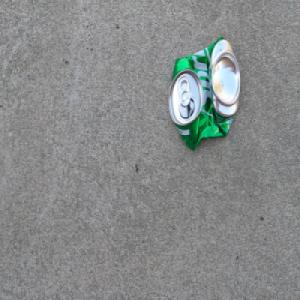SodaCan: (167, 34, 241, 151)
